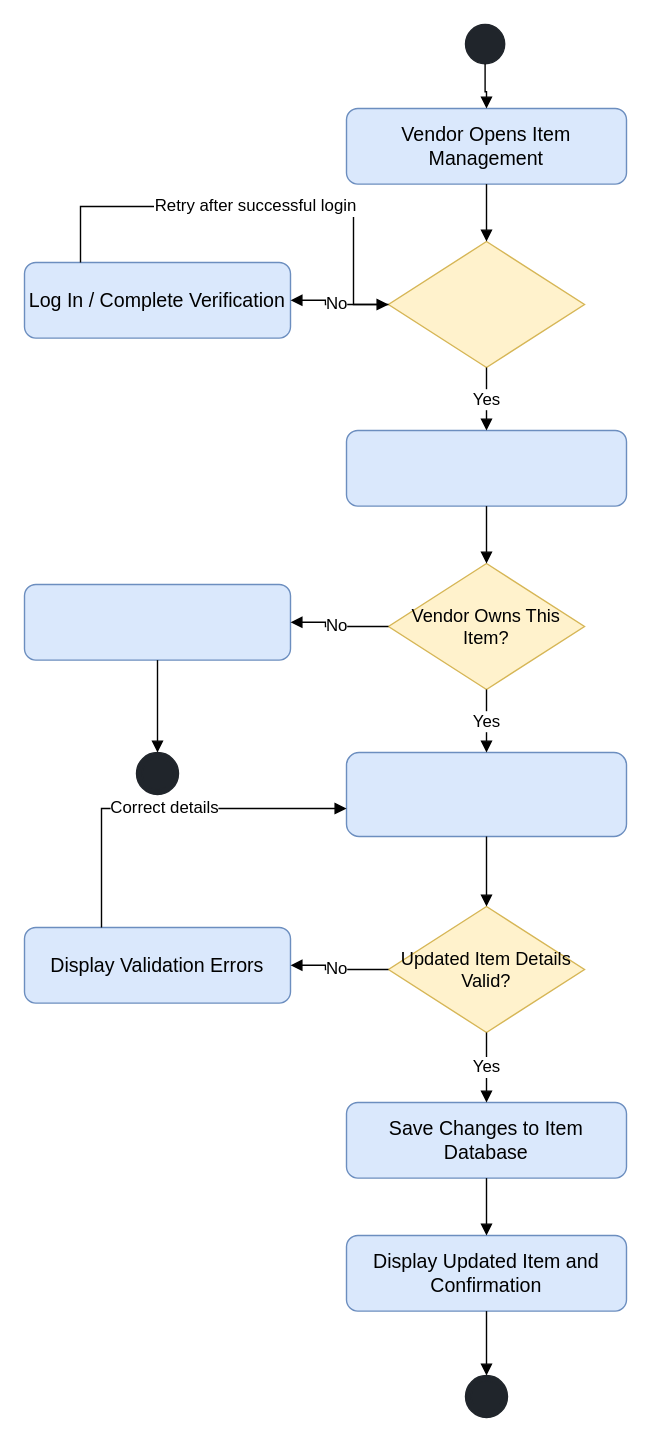
This 651x1442 diagram has some shape labels left out. Here are the shapes that lost their labels. From the top down, the centre of each, then its label:
At point (485, 304): "Vendor Logged In and Verified?".
At point (485, 467): "Select Grocery Item".
At point (156, 621): "Display Access Denied".
At point (485, 793): "Edit Item Details (Name, Price, Nutrition, etc.)".
